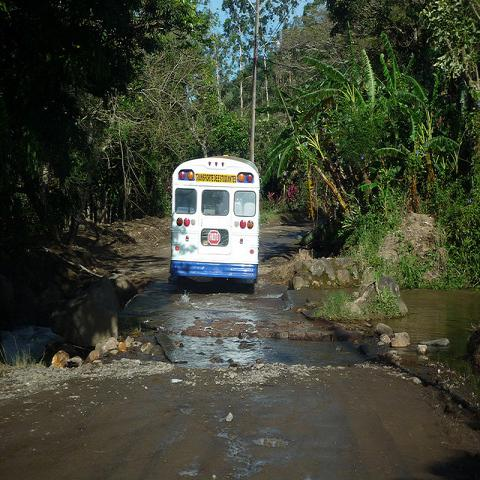bus: (170, 151, 261, 294)
